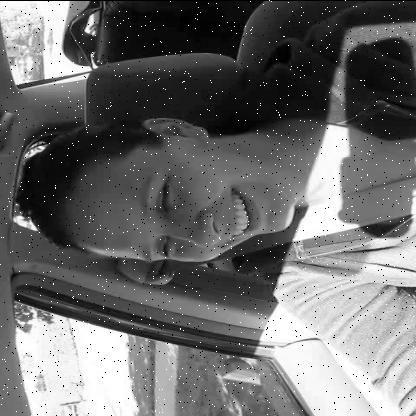seatbelt: (21, 109, 416, 268)
